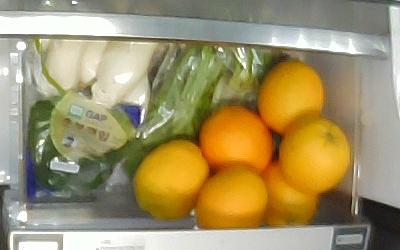orange: (133, 139, 209, 219), (278, 117, 349, 192), (198, 105, 272, 174), (255, 59, 324, 132), (196, 166, 269, 228), (263, 159, 318, 228)
